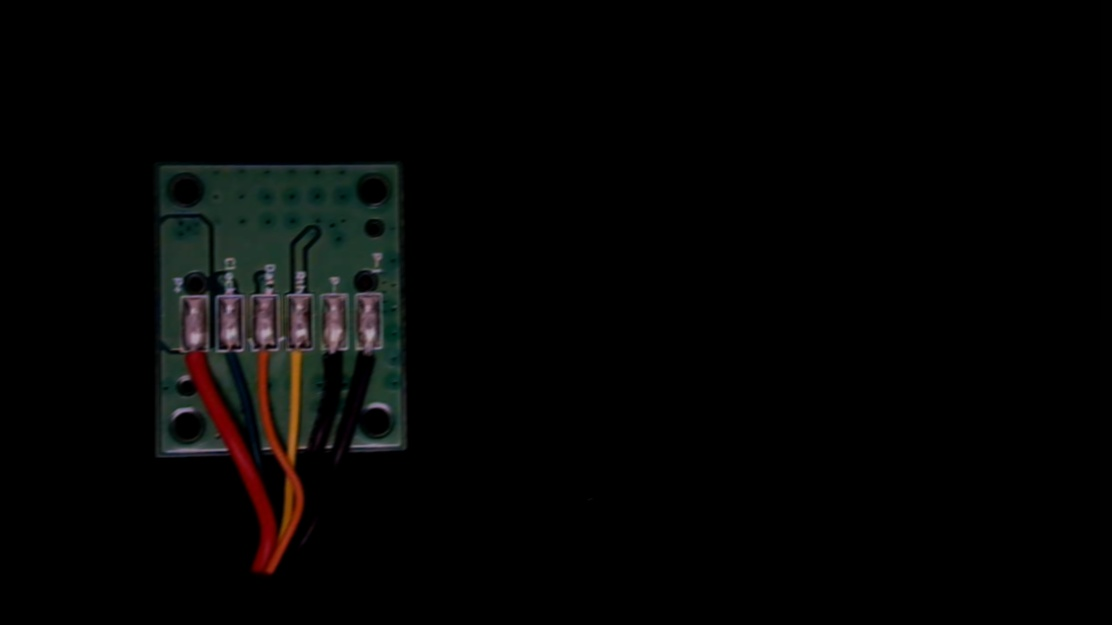Black: (322, 337, 348, 388)
Black1: (356, 336, 383, 388)
Green: (215, 337, 244, 386)
Orange: (253, 337, 277, 389)
Red: (180, 337, 209, 391)
Yellow: (286, 337, 314, 392)
